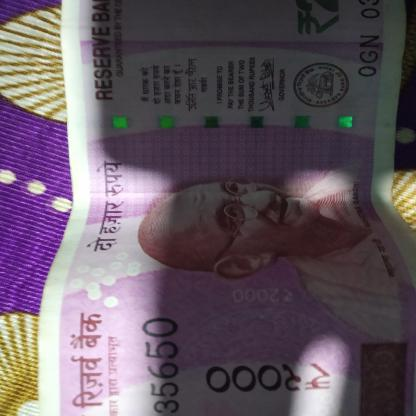New2000Front: (65, 5, 412, 415)
